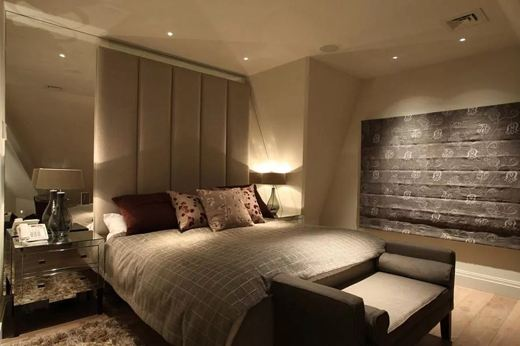床: (95, 216, 403, 338)
枕头: (163, 187, 256, 231)
灯: (33, 163, 80, 243), (246, 165, 290, 223), (55, 51, 68, 61), (455, 36, 469, 45), (389, 54, 402, 63), (163, 30, 175, 39), (238, 55, 250, 64)
